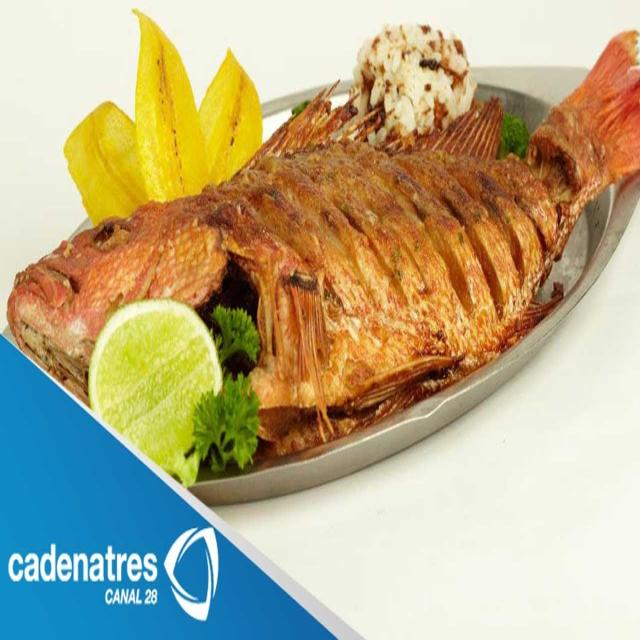arroz: (339, 10, 491, 144)
pescado: (1, 93, 615, 423)
platano: (52, 11, 282, 221)
